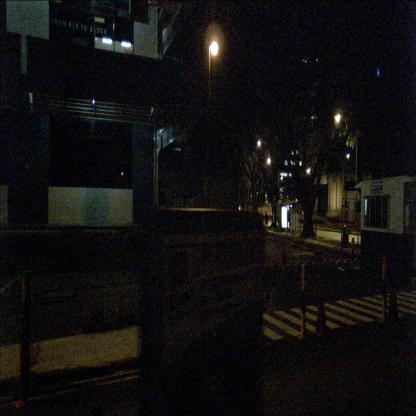cone: (313, 296, 331, 340), (385, 284, 401, 326)
